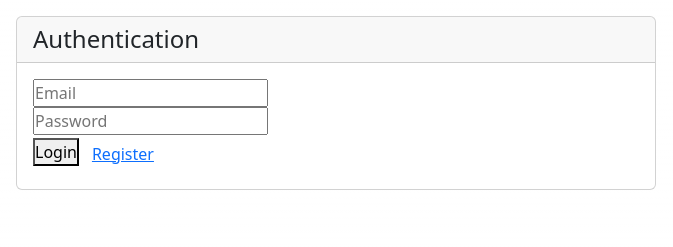
Login Page › displays error message on invalid credentials
The image size is (673, 247).
In the field with placeholder "Email": (150, 93) 33,79 -> 268,107, type "invaliduser@test.com"
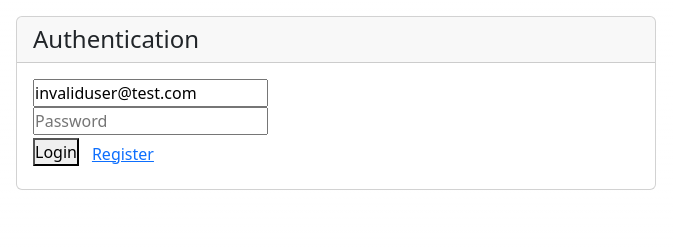
In the password field with placeholder "Password": (150, 121) 33,107 -> 268,135, type "invalidpassword"
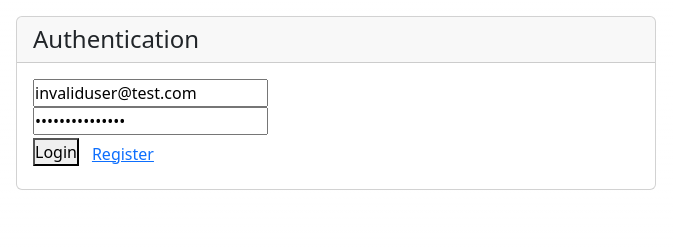
Click the button "Login": (56, 152) 33,138 -> 79,166
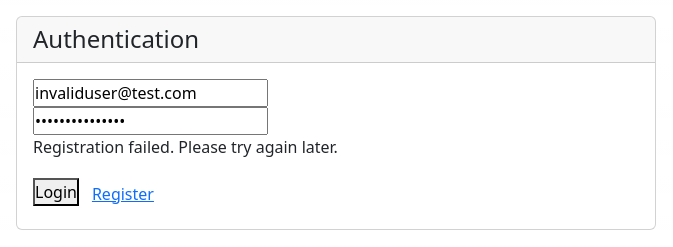
Check: the text "Registration failed. Please try again later." is shown, box 33,136 -> 338,158
